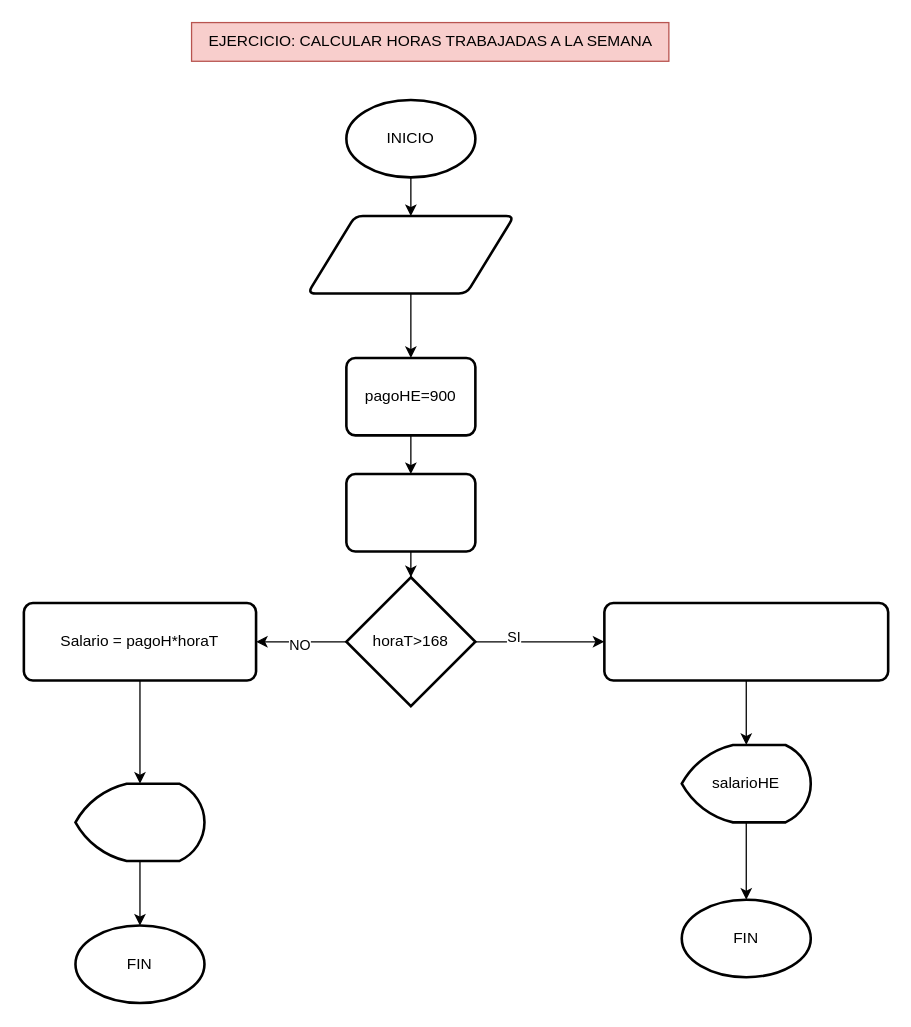
This 911x1027 diagram has some shape labels left out. The shapes that lost their labels are listed below. From the top down, each one's box as (x1, y1, x2, y2) in pixels, then its label:
(306, 214, 515, 294): horaT
(344, 472, 476, 552): pagoH=600
(602, 601, 889, 681): salarioHE=(168*pagoH)+(horaT-168)*pagoHE)
(74, 782, 205, 862): Salario
